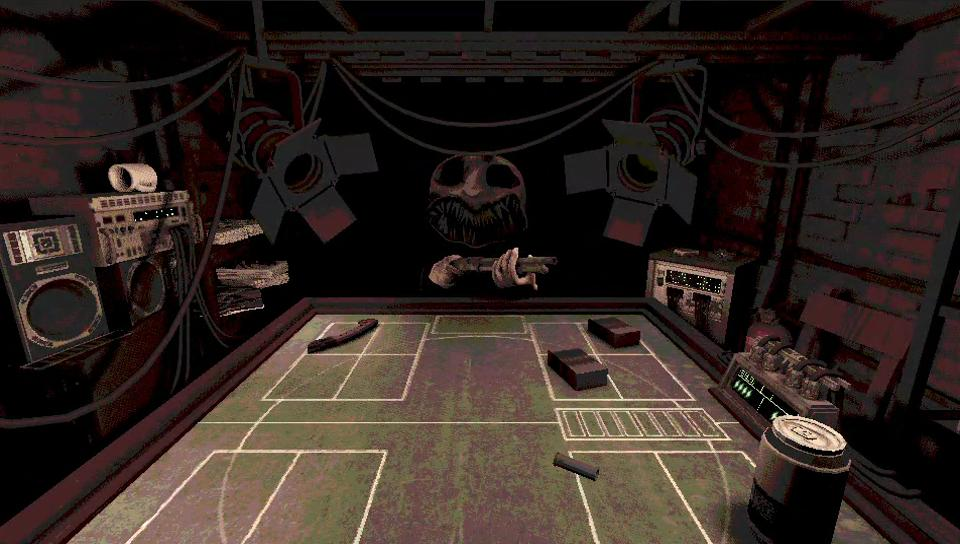ally: (41, 412, 919, 543)
can: (745, 418, 849, 543)
cigar: (546, 343, 608, 392), (585, 313, 641, 349)
doubledamage: (307, 317, 382, 354)
emptyspace: (120, 449, 294, 543), (237, 448, 385, 543), (570, 452, 714, 543)
enemyspace: (209, 306, 738, 407)
